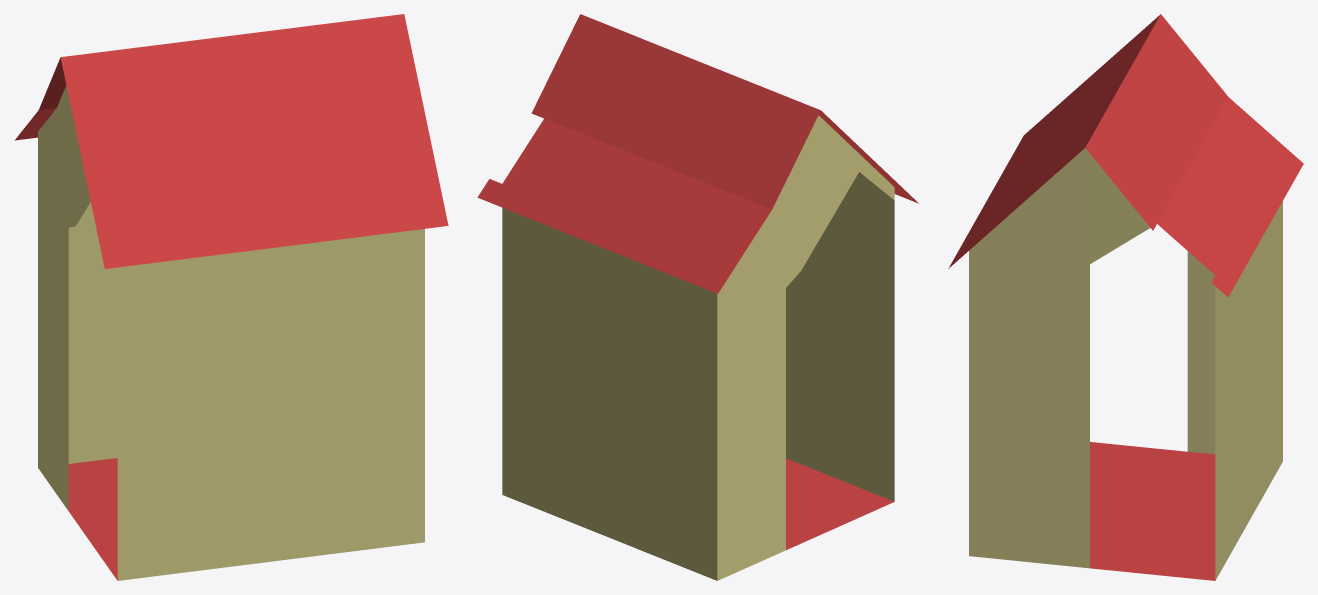
The picture shows the model from 3 angles, left to right: view 1: azimuth 30°, elevation 25°; view 2: azimuth 150°, elevation 25°; view 3: azimuth 270°, elevation 25°; orthographic projection. The views are drawn at different scales.
Bounding box in the file's own units: 11.09 × 10.28 × 13.64.
